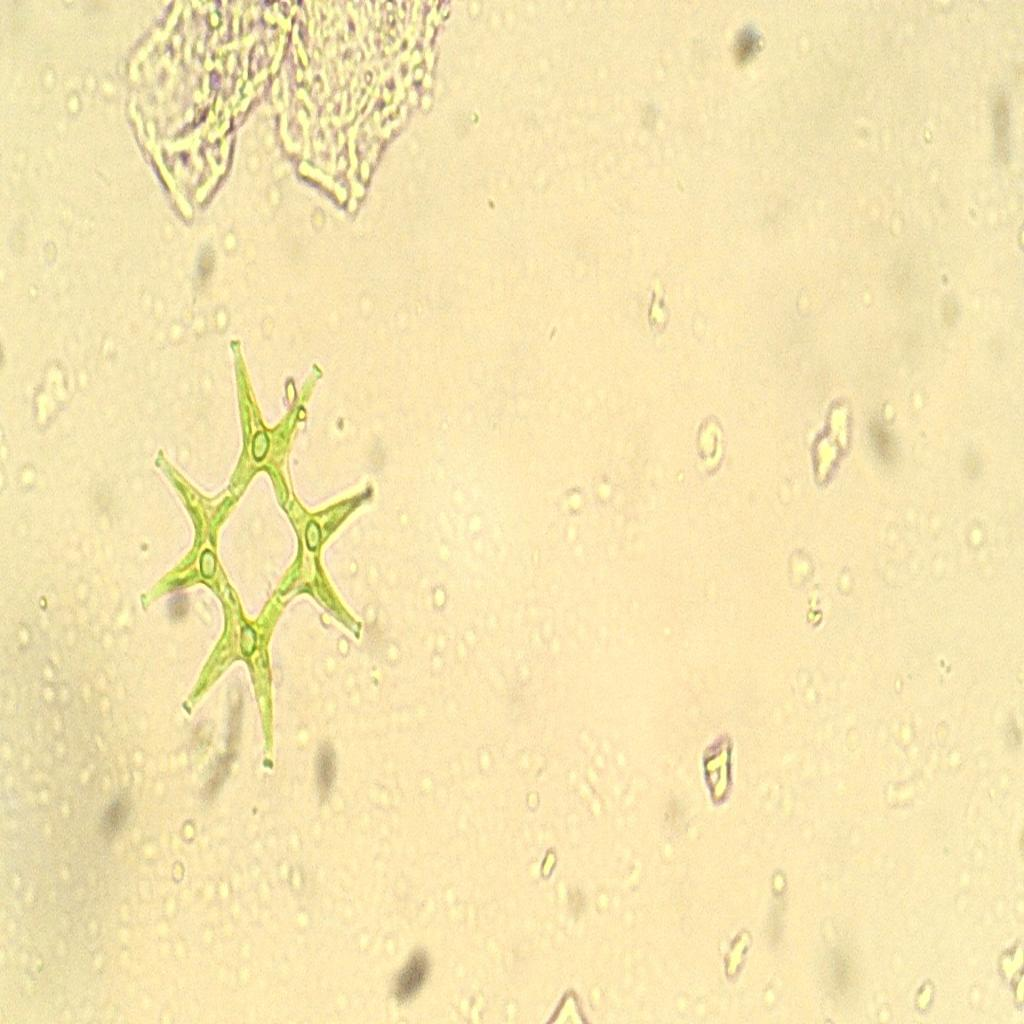Pediastrum_75O: (136, 321, 400, 796)
